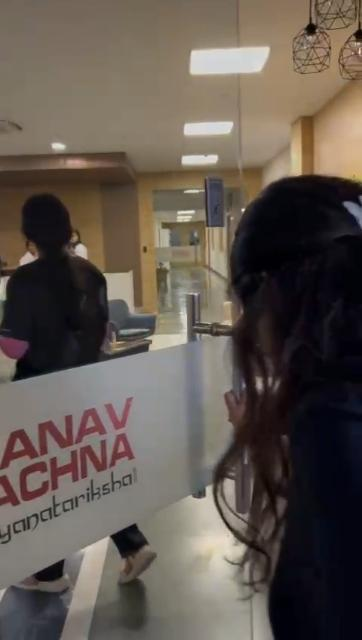moving-obj: (184, 180, 362, 640), (7, 196, 158, 590)
